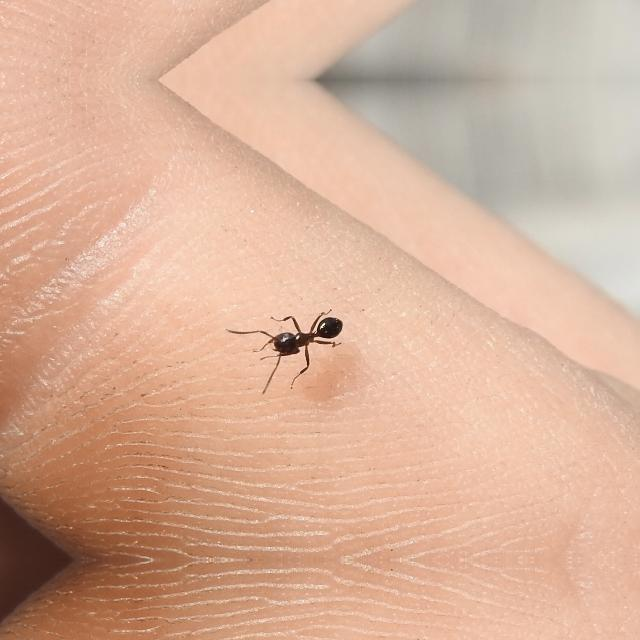Colobopsis: (252, 306, 354, 369)
